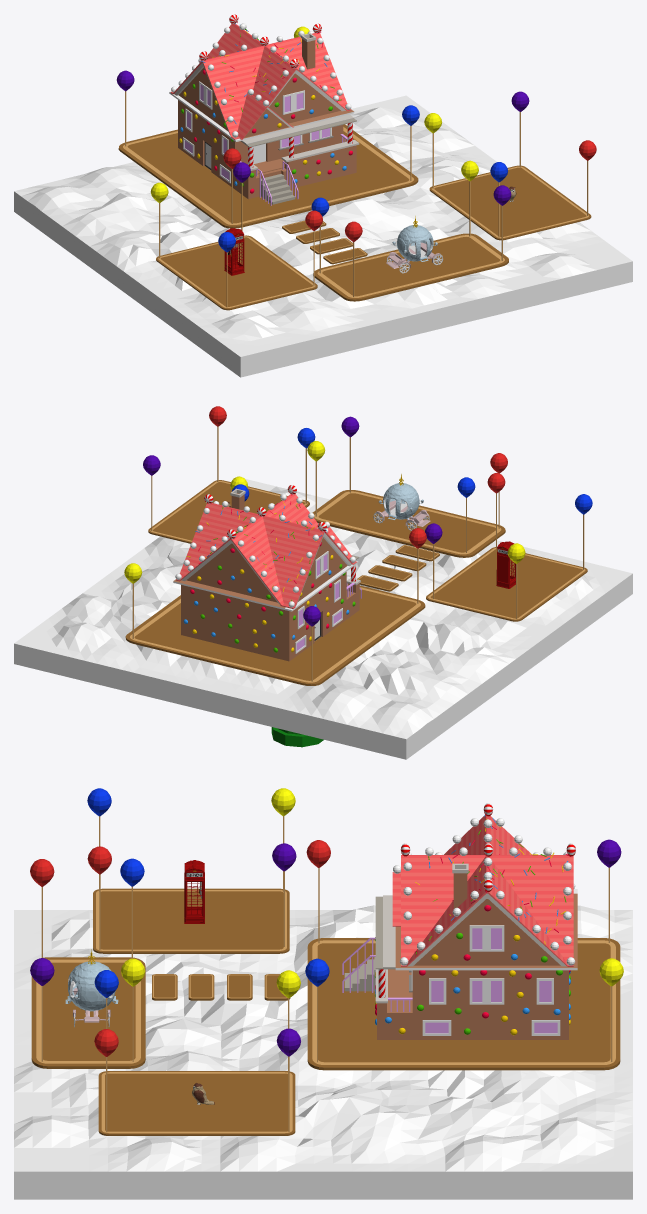
3 views of the same model, one above another, from view 1: azimuth 30°, elevation 25°; view 2: azimuth 150°, elevation 25°; view 3: azimuth 270°, elevation 25° (orthographic). The views are drawn at different scales.
Parts seen in each view (by area): view 1: Cube.013, Cube.1203, VEHICLES_FANTASY_CARRIAGE, OBJRANDOM_PHONEBOOTH; view 2: Cube.013, Cube.1203, VEHICLES_FANTASY_CARRIAGE, OBJRANDOM_PHONEBOOTH, UNDERGROUND_PIPES; view 3: Cube.013, Cube.1203, VEHICLES_FANTASY_CARRIAGE, OBJRANDOM_PHONEBOOTH.
Part boxes in pixels (bbox=[...]): Cube.013: bbox=[14, 26, 632, 377]; Cube.1203: bbox=[169, 14, 359, 205]; VEHICLES_FANTASY_CARRIAGE: bbox=[386, 216, 443, 273]; OBJRANDOM_PHONEBOOTH: bbox=[224, 228, 244, 275]; Cube.013: bbox=[14, 406, 632, 759]; Cube.1203: bbox=[173, 485, 361, 661]; VEHICLES_FANTASY_CARRIAGE: bbox=[373, 474, 430, 530]; OBJRANDOM_PHONEBOOTH: bbox=[496, 541, 515, 588]; UNDERGROUND_PIPES: bbox=[271, 727, 323, 747]; Cube.013: bbox=[14, 788, 632, 1199]; Cube.1203: bbox=[342, 803, 577, 1039]; VEHICLES_FANTASY_CARRIAGE: bbox=[65, 949, 118, 1027]; OBJRANDOM_PHONEBOOTH: bbox=[184, 860, 204, 923].
Bounding box in the file's own units: 4000 × 2273 × 4000.
44 materials, 2 textured.
